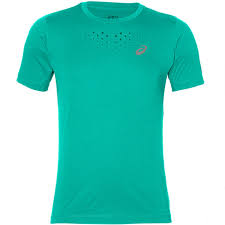T-Shirt: (16, 1, 208, 222)
